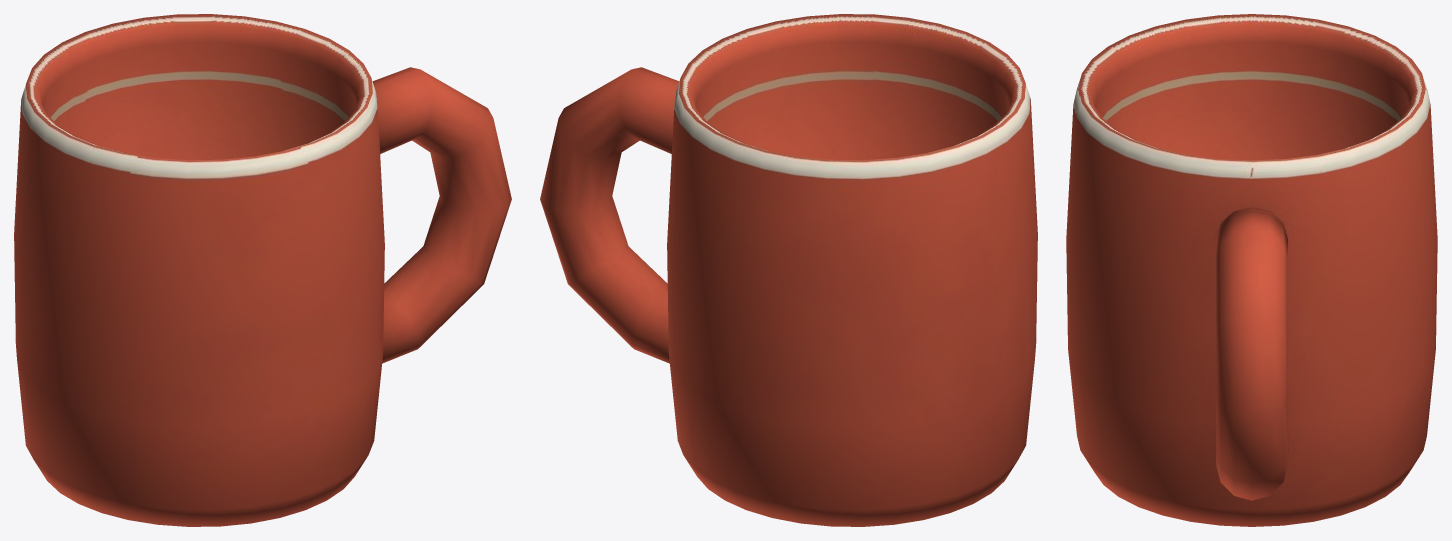
Rendered from mug_cocoa_b2.glb.
The picture shows the model from 3 angles, left to right: view 1: azimuth 30°, elevation 25°; view 2: azimuth 150°, elevation 25°; view 3: azimuth 270°, elevation 25°; orthographic projection.
Parts seen in each view (by area): view 1: prop_mug_cocoa_b2_felt; view 2: prop_mug_cocoa_b2_felt; view 3: prop_mug_cocoa_b2_felt.
Part boxes in pixels (x1,y1,x2,y2): prop_mug_cocoa_b2_felt: [14, 14, 511, 526]; prop_mug_cocoa_b2_felt: [540, 14, 1037, 526]; prop_mug_cocoa_b2_felt: [1066, 14, 1437, 526].
Bounding box in the file's own units: 0.1907 × 0.1447 × 0.131.
1 material, 1 textured.
